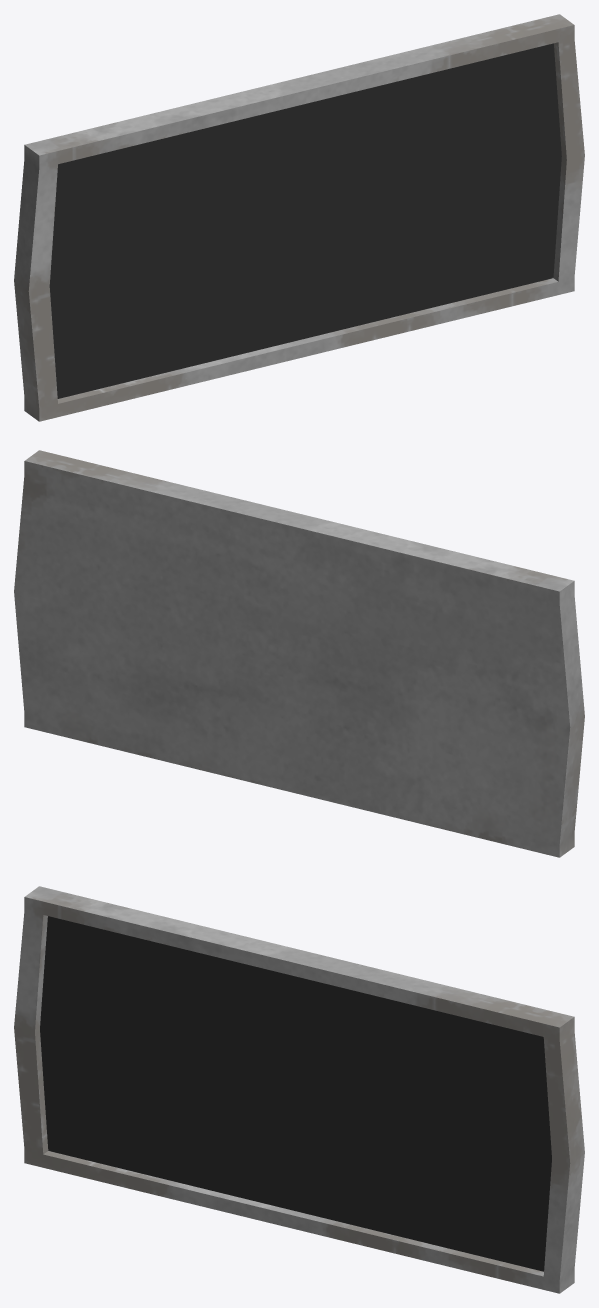
File: SM_window_b.fbx
The picture shows the model from 3 angles, top to bottom: view 1: azimuth 30°, elevation 25°; view 2: azimuth 150°, elevation 25°; view 3: azimuth 330°, elevation 25°; orthographic projection.
Parts seen in each view (by area): view 1: SM_Window_b_01; view 2: SM_Window_b_01; view 3: SM_Window_b_01.
Boxes of the visible parts, x1,y1,x2,y2 form: SM_Window_b_01: [14, 14, 584, 421]; SM_Window_b_01: [14, 450, 584, 857]; SM_Window_b_01: [14, 886, 584, 1293].
Size of the model in its own units: 3.28 by 1.5 by 0.151.
